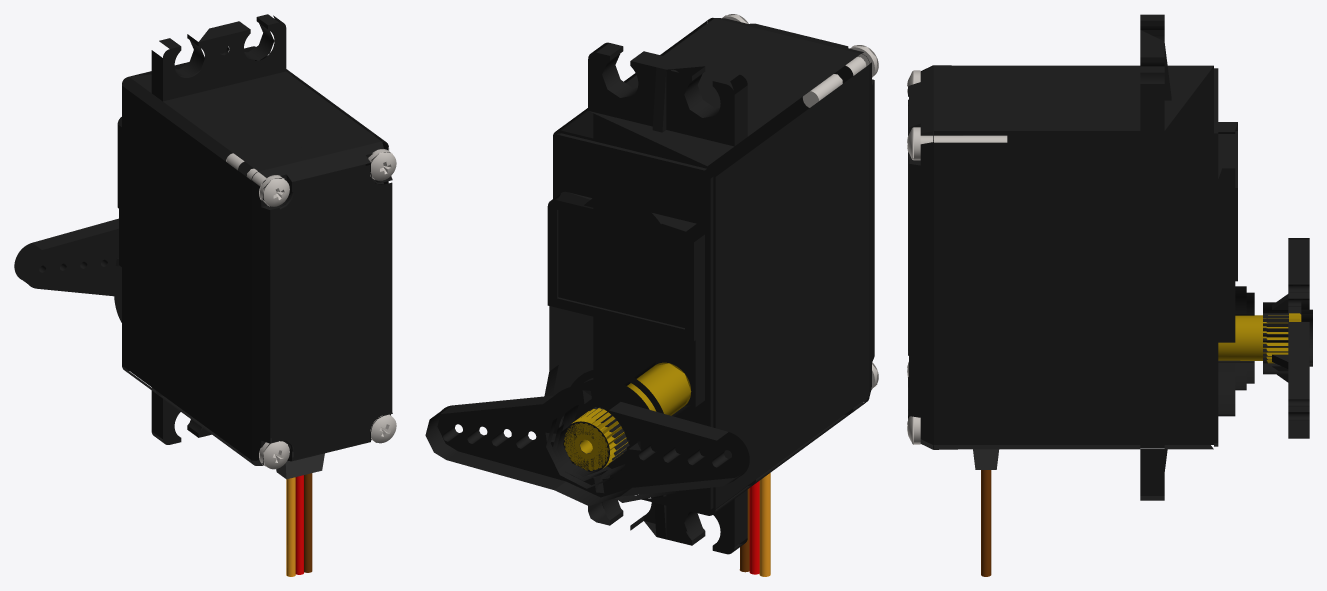
Rendered from Servo Motor.dae.
3 renders of one model, left to right at view 1: azimuth 30°, elevation 25°; view 2: azimuth 150°, elevation 25°; view 3: azimuth 270°, elevation 25°, orthographic. The views are drawn at different scales.
Parts seen in each view (by area): view 1: Servo_Motor.IGS; view 2: Servo_Motor.IGS; view 3: Servo_Motor.IGS.
Boxes of the visible parts, x1,y1,x2,y2 form: Servo_Motor.IGS: [14, 14, 396, 576]; Servo_Motor.IGS: [425, 14, 878, 576]; Servo_Motor.IGS: [907, 14, 1312, 576].
Bounding box in the file's own units: 38.03 × 67 × 46.93.
